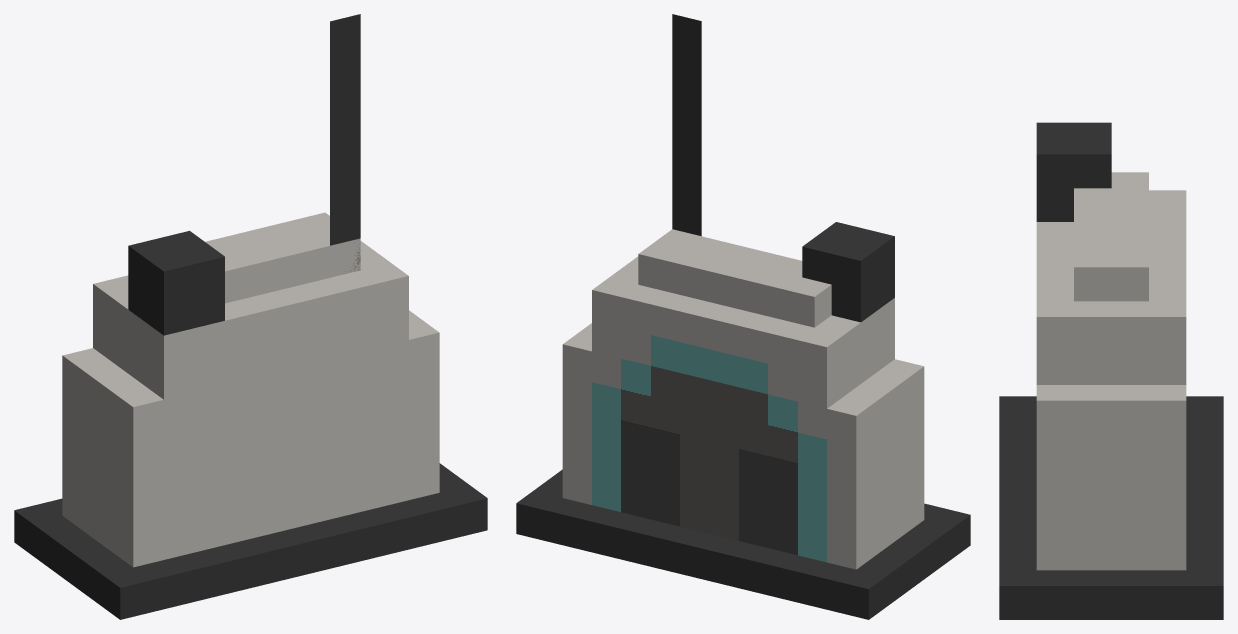
Rendered from radio.fbx.
3 views of the same model, side by side, from view 1: azimuth 30°, elevation 25°; view 2: azimuth 150°, elevation 25°; view 3: azimuth 270°, elevation 25° (orthographic). The views are drawn at different scales.
Visible parts, largest first — view 1: cube, cube_5, cube_1, cube_4, cube_2, cube_3; view 2: cube, cube_1, cube_5, cube_2, cube_4, cube_3; view 3: cube, cube_5, cube_1, cube_2, cube_4.
Boxes of the visible parts, x1,y1,x2,y2 form: cube: (62,310,439,567); cube_5: (14,463,487,619); cube_1: (93,241,408,399); cube_4: (128,230,224,335); cube_2: (205,212,360,303); cube_3: (330,14,360,269); cube: (562,323,924,569); cube_1: (592,256,894,408); cube_5: (516,469,970,619); cube_2: (638,229,831,327); cube_4: (802,222,894,322); cube_3: (672,14,701,236); cube: (1036,385,1186,570); cube_5: (999,396,1223,619); cube_1: (1036,190,1186,384); cube_2: (1074,172,1148,301); cube_4: (1036,122,1111,221).
Size of the model in its own units: 75 by 100 by 37.5.
1 material, 1 textured.
